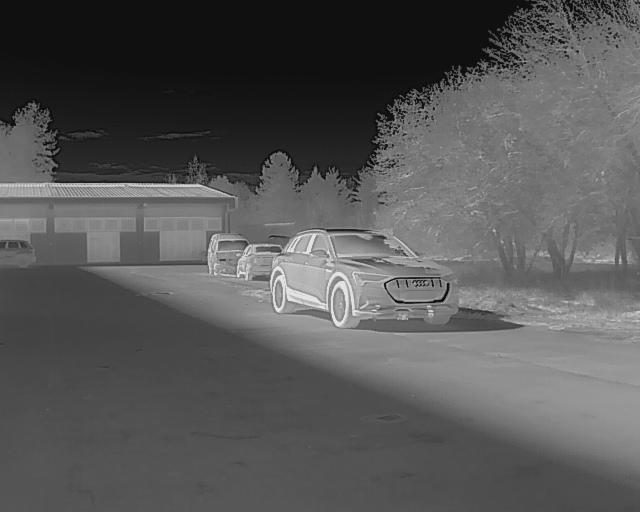drone: (341, 296, 441, 333)
